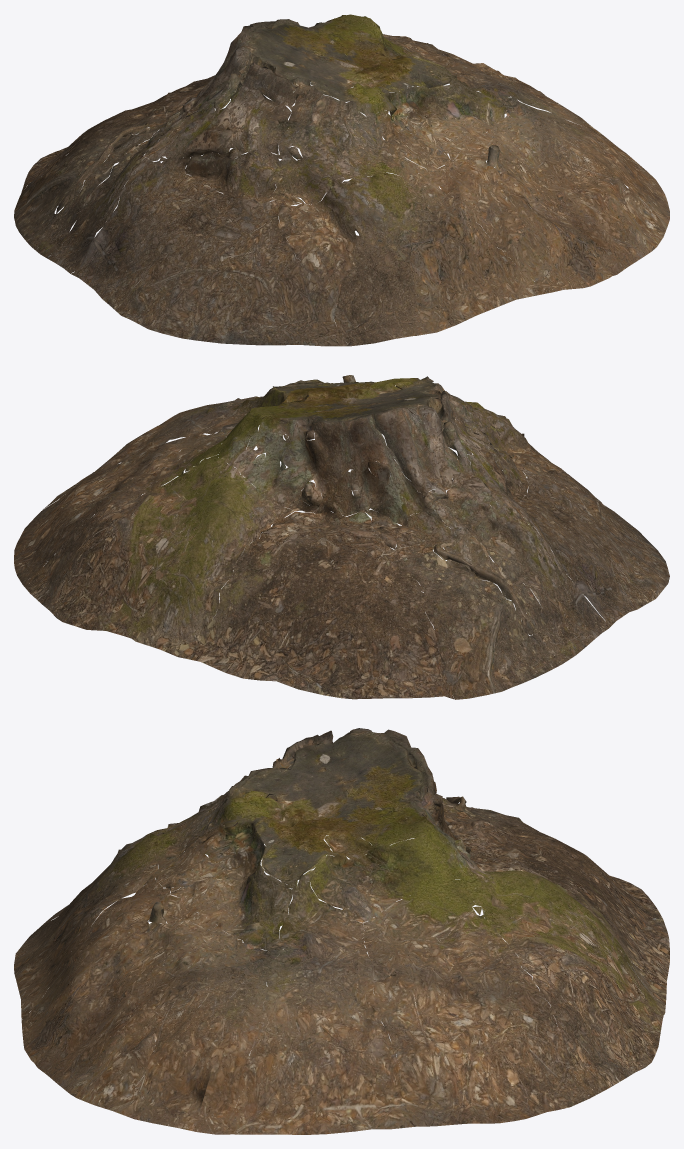
File: tree_stump_02.glb
3 renders of one model, top to bottom at view 1: azimuth 30°, elevation 25°; view 2: azimuth 150°, elevation 25°; view 3: azimuth 270°, elevation 25°, orthographic. The views are drawn at different scales.
Visible parts, largest first — view 1: tree_stump_02; view 2: tree_stump_02; view 3: tree_stump_02.
Boxes of the visible parts, <box> form: tree_stump_02: <box>14,14,669,346</box>; tree_stump_02: <box>14,375,669,699</box>; tree_stump_02: <box>14,728,669,1134</box>.
Size of the model in its own units: 1.52 by 0.5213 by 1.39.
Materials: 1 (1 with a texture image).
